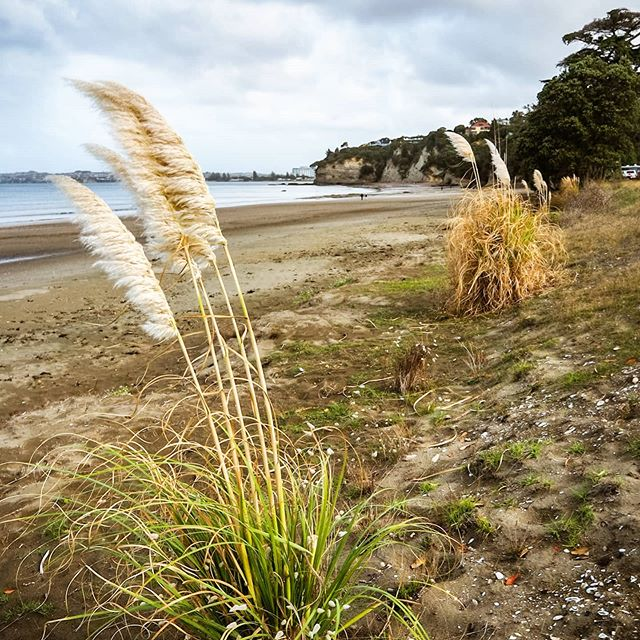sea: (1, 171, 326, 232)
sky: (1, 1, 550, 165)
vegetation: (64, 102, 361, 639), (401, 36, 640, 195), (430, 122, 548, 304)
